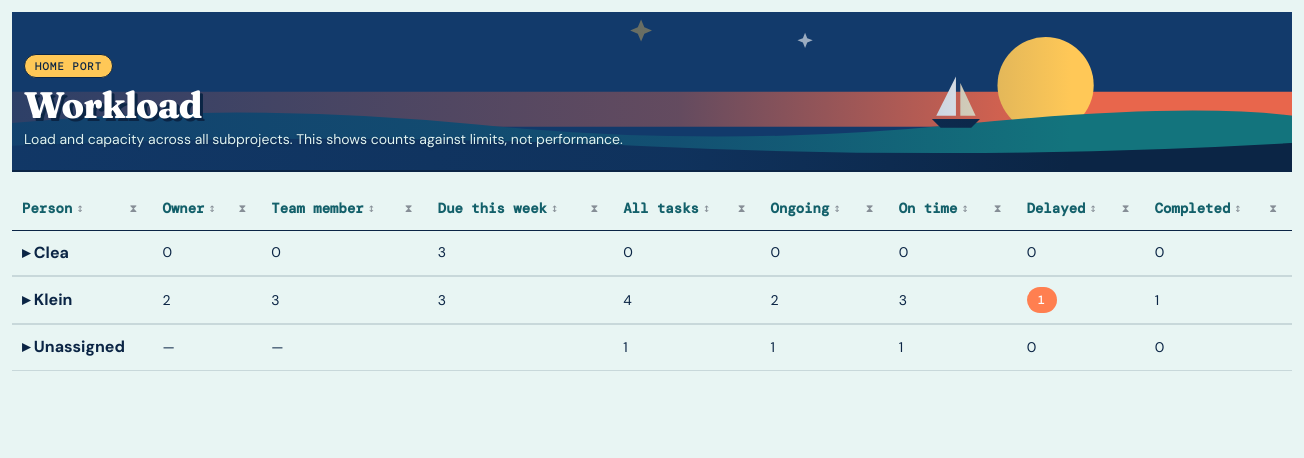
Workload page › lists unmatched items under an expandable Unassigned row
Click the button "▸ Unassigned". click: (73, 348)
box: [22,336,125,360]
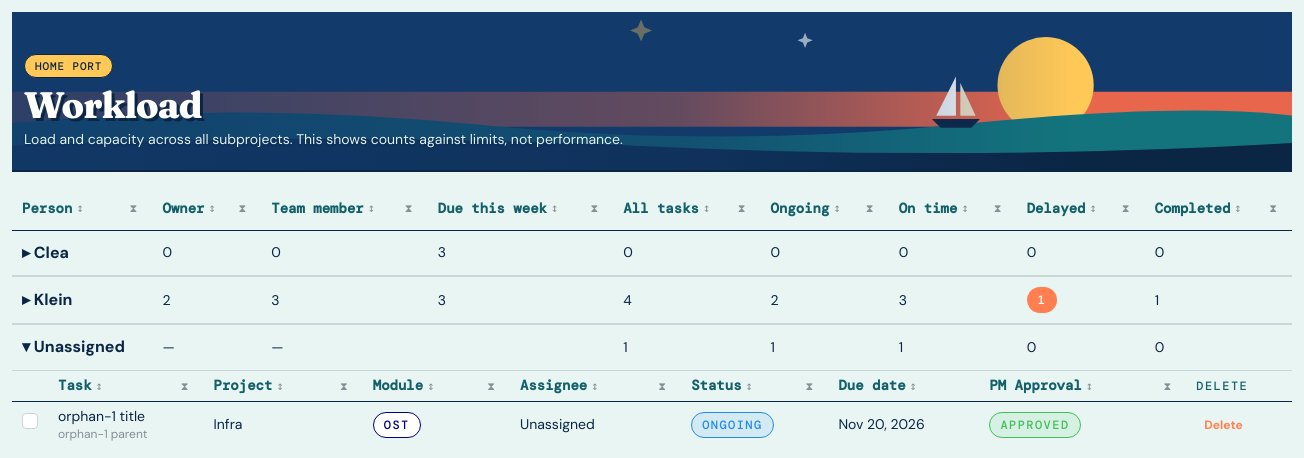
Check: the text "orphan-1 title" is shown, box [58,407,145,425]
